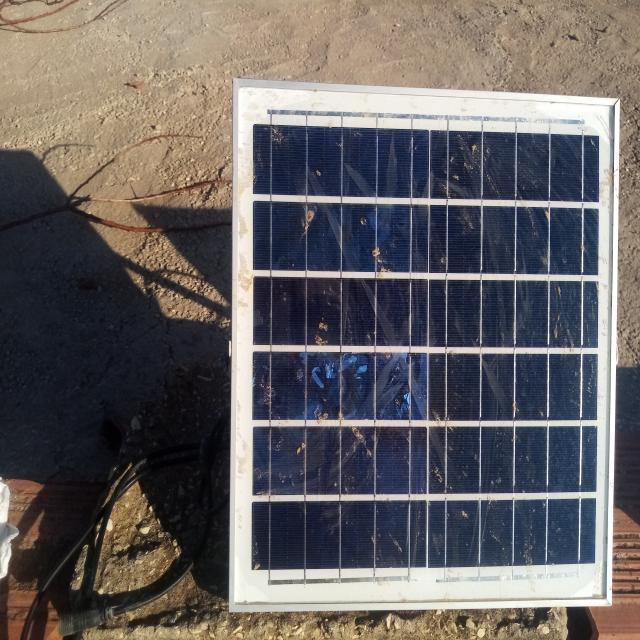faulty: (229, 78, 622, 607)
